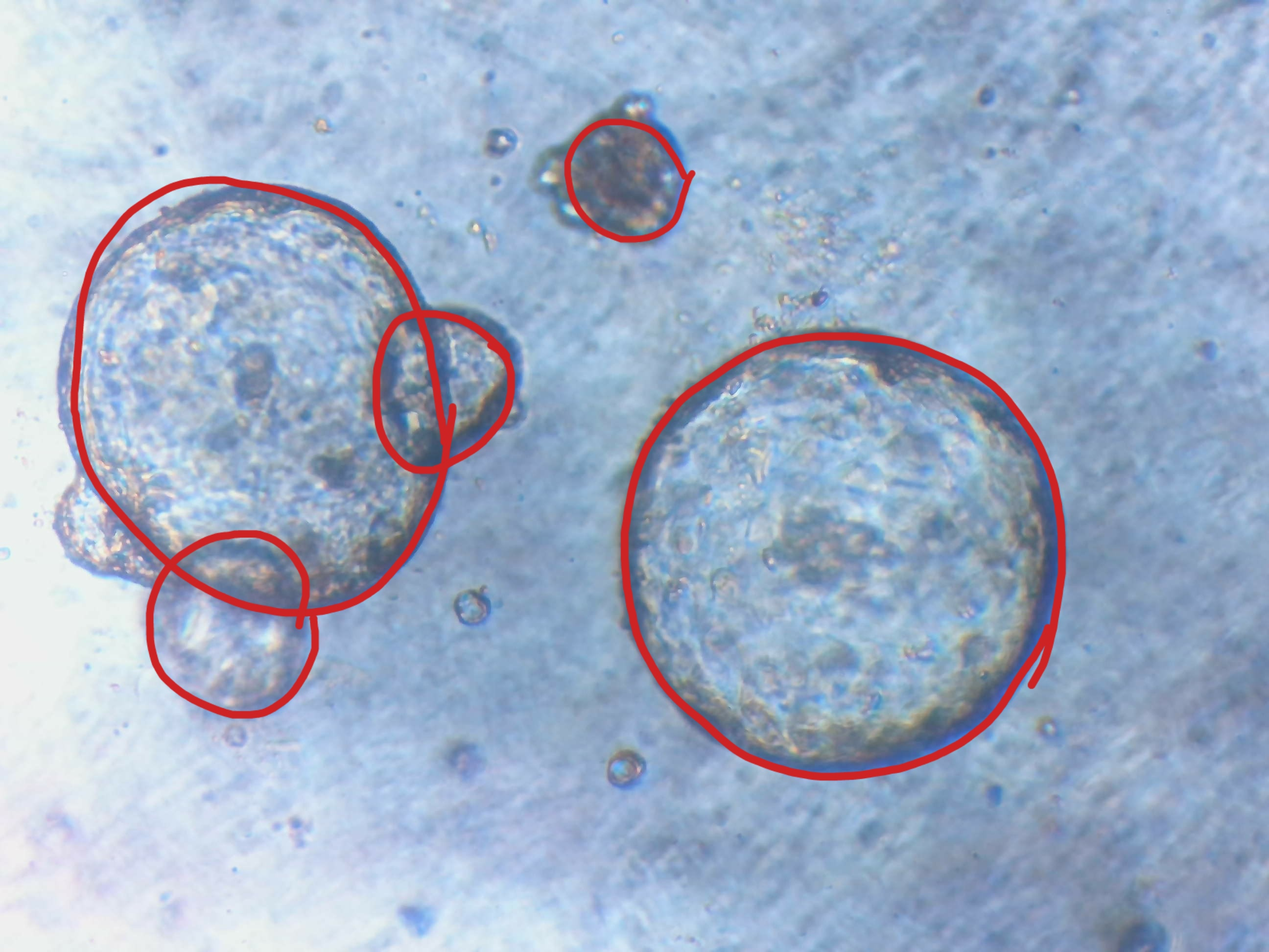organoid: (699, 496, 776, 556)
